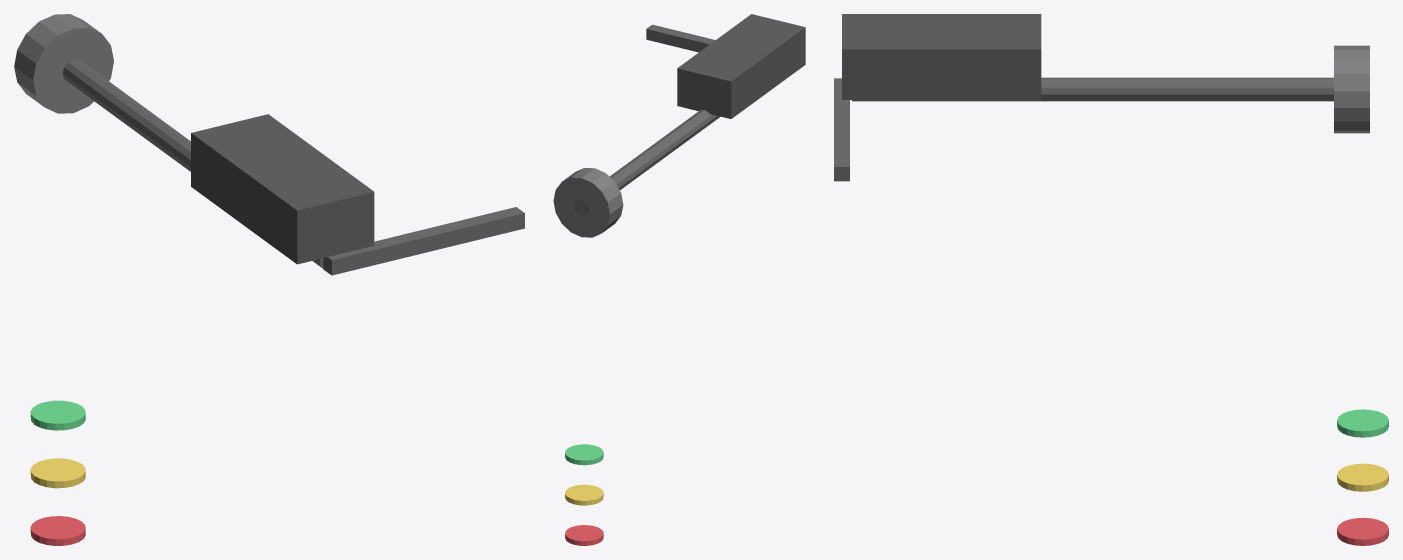
The model's file is city_traffic_light.glb.
3 renders of one model, left to right at view 1: azimuth 30°, elevation 25°; view 2: azimuth 150°, elevation 25°; view 3: azimuth 270°, elevation 25°, orthographic. The views are drawn at different scales.
Visible parts, largest first — view 1: traffic_light_box, traffic_light_base, traffic_light_arm, traffic_light_pole, traffic_light_green, traffic_light_amber, traffic_light_red; view 2: traffic_light_box, traffic_light_base, traffic_light_pole, traffic_light_arm, traffic_light_green, traffic_light_red, traffic_light_amber; view 3: traffic_light_box, traffic_light_pole, traffic_light_base, traffic_light_arm, traffic_light_amber, traffic_light_green, traffic_light_red.
Part boxes in pixels (left/top/right/bottom): traffic_light_box: left=191, top=114, right=374, bottom=264; traffic_light_base: left=14, top=14, right=113, bottom=113; traffic_light_arm: left=323, top=207, right=524, bottom=275; traffic_light_pole: left=62, top=59, right=323, bottom=268; traffic_light_green: left=30, top=400, right=85, bottom=430; traffic_light_amber: left=30, top=458, right=85, bottom=488; traffic_light_red: left=30, top=516, right=85, bottom=545; traffic_light_box: left=677, top=14, right=805, bottom=118; traffic_light_base: left=553, top=168, right=623, bottom=237; traffic_light_pole: left=574, top=110, right=720, bottom=215; traffic_light_arm: left=646, top=24, right=715, bottom=52; traffic_light_green: left=565, top=444, right=603, bottom=465; traffic_light_red: left=565, top=525, right=603, bottom=545; traffic_light_amber: left=565, top=484, right=603, bottom=505; traffic_light_box: left=842, top=14, right=1041, bottom=99; traffic_light_pole: left=852, top=77, right=1333, bottom=101; traffic_light_base: left=1334, top=45, right=1369, bottom=133; traffic_light_arm: left=834, top=78, right=849, bottom=181; traffic_light_amber: left=1337, top=463, right=1388, bottom=491; traffic_light_green: left=1337, top=409, right=1388, bottom=437; traffic_light_red: left=1337, top=517, right=1388, bottom=545.
Bounding box in the file's own units: 1.22 × 2.79 × 2.79.
